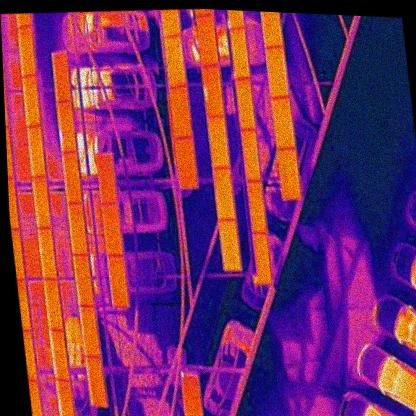Diode: (201, 62, 225, 119), (56, 99, 78, 154), (49, 329, 70, 382), (55, 379, 73, 416)
Hotspot: (180, 371, 204, 416)
Normal: (265, 45, 291, 98), (168, 85, 193, 140), (276, 146, 301, 201), (195, 13, 220, 68), (174, 136, 199, 190), (212, 167, 237, 221), (218, 218, 243, 271), (272, 96, 296, 151), (207, 115, 231, 170), (163, 35, 187, 89), (50, 50, 74, 104), (67, 203, 90, 257), (101, 204, 124, 258), (43, 277, 65, 333), (16, 25, 38, 81), (234, 77, 257, 130), (25, 123, 47, 178), (62, 152, 84, 206), (36, 226, 58, 280), (79, 304, 101, 358), (21, 73, 42, 129), (241, 128, 262, 184), (96, 152, 118, 205), (229, 27, 251, 80), (31, 176, 52, 230), (73, 255, 94, 308), (85, 356, 106, 409), (247, 182, 268, 234), (253, 233, 274, 284), (108, 255, 129, 306)
